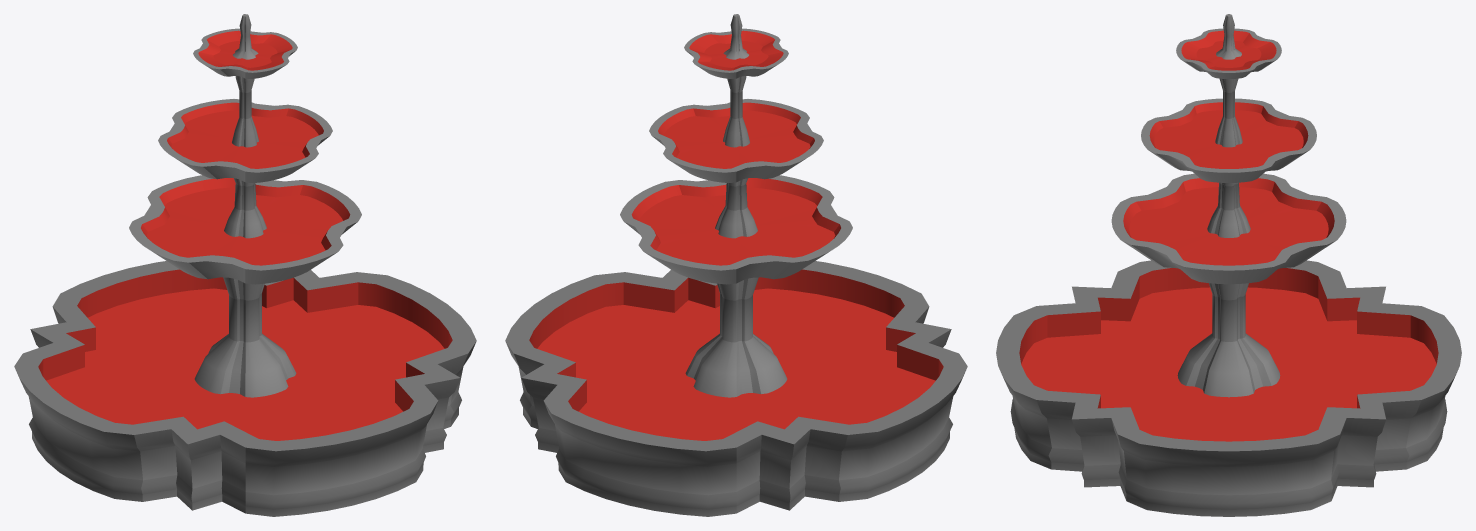
The model's file is Altar.fbx.
3 views of the same model, side by side, from view 1: azimuth 30°, elevation 25°; view 2: azimuth 150°, elevation 25°; view 3: azimuth 270°, elevation 25° (orthographic).
Visible parts, largest first — view 1: Altar; view 2: Altar; view 3: Altar.
Part boxes in pixels (<box>): Altar: <box>14,14,476,516</box>; Altar: <box>505,14,967,516</box>; Altar: <box>996,14,1461,516</box>.
Size of the model in its own units: 594 by 578 by 594.
